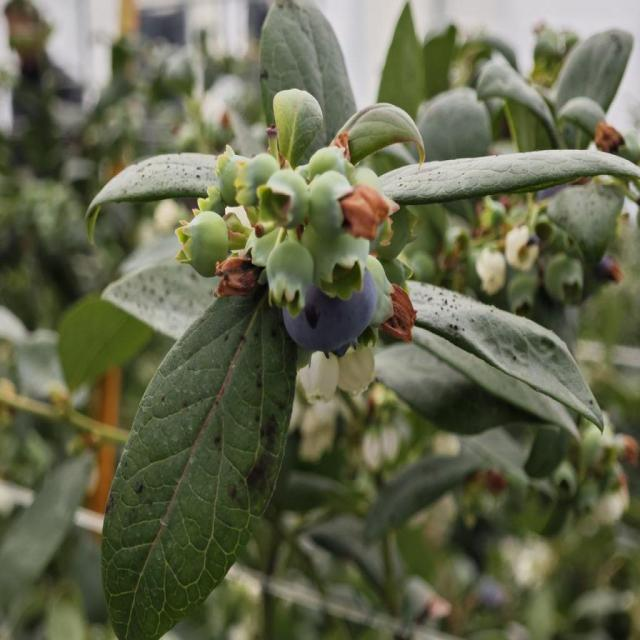RipeBlueBerry: (282, 270, 377, 353)
UnripeBlueBerry: (308, 169, 372, 240), (266, 242, 312, 309), (262, 167, 307, 231)
